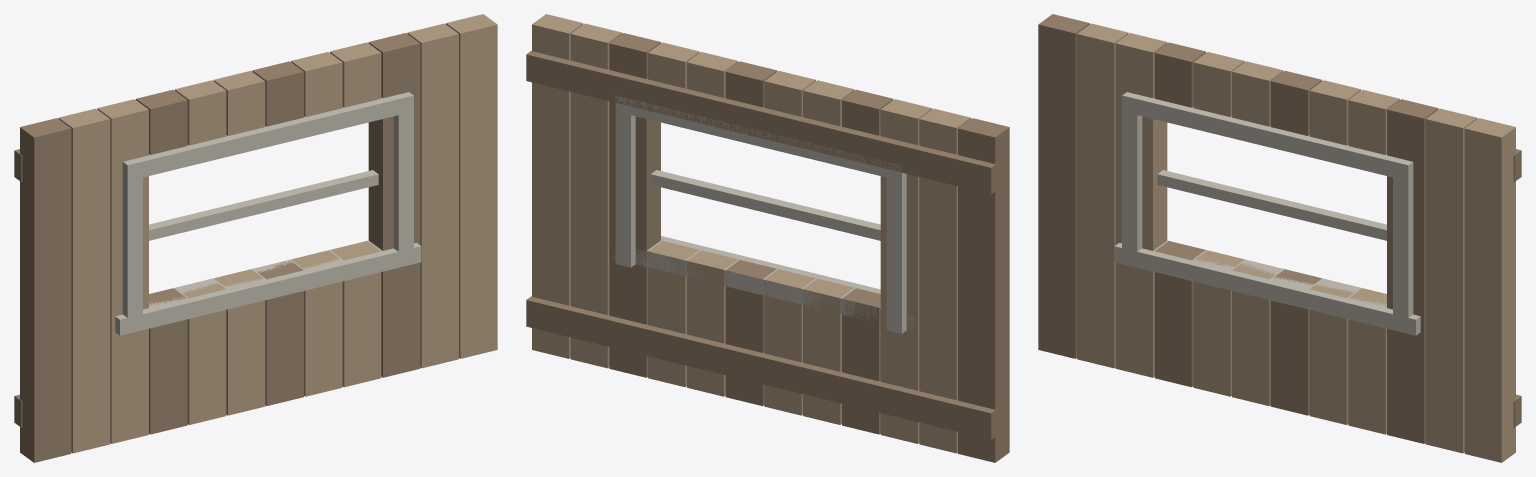
The model's file is dm_woodwallwindowwide.glb.
3 views of the same model, side by side, from view 1: azimuth 30°, elevation 25°; view 2: azimuth 150°, elevation 25°; view 3: azimuth 330°, elevation 25° (orthographic).
Visible parts, largest first — view 1: dm_woodwallwindowwide; view 2: dm_woodwallwindowwide; view 3: dm_woodwallwindowwide.
Part boxes in pixels (x1,y1,x2,y2): dm_woodwallwindowwide: [14, 14, 497, 462]; dm_woodwallwindowwide: [526, 14, 1009, 462]; dm_woodwallwindowwide: [1038, 14, 1521, 462].
Size of the model in its own units: 1.83 by 1.22 by 0.163.
